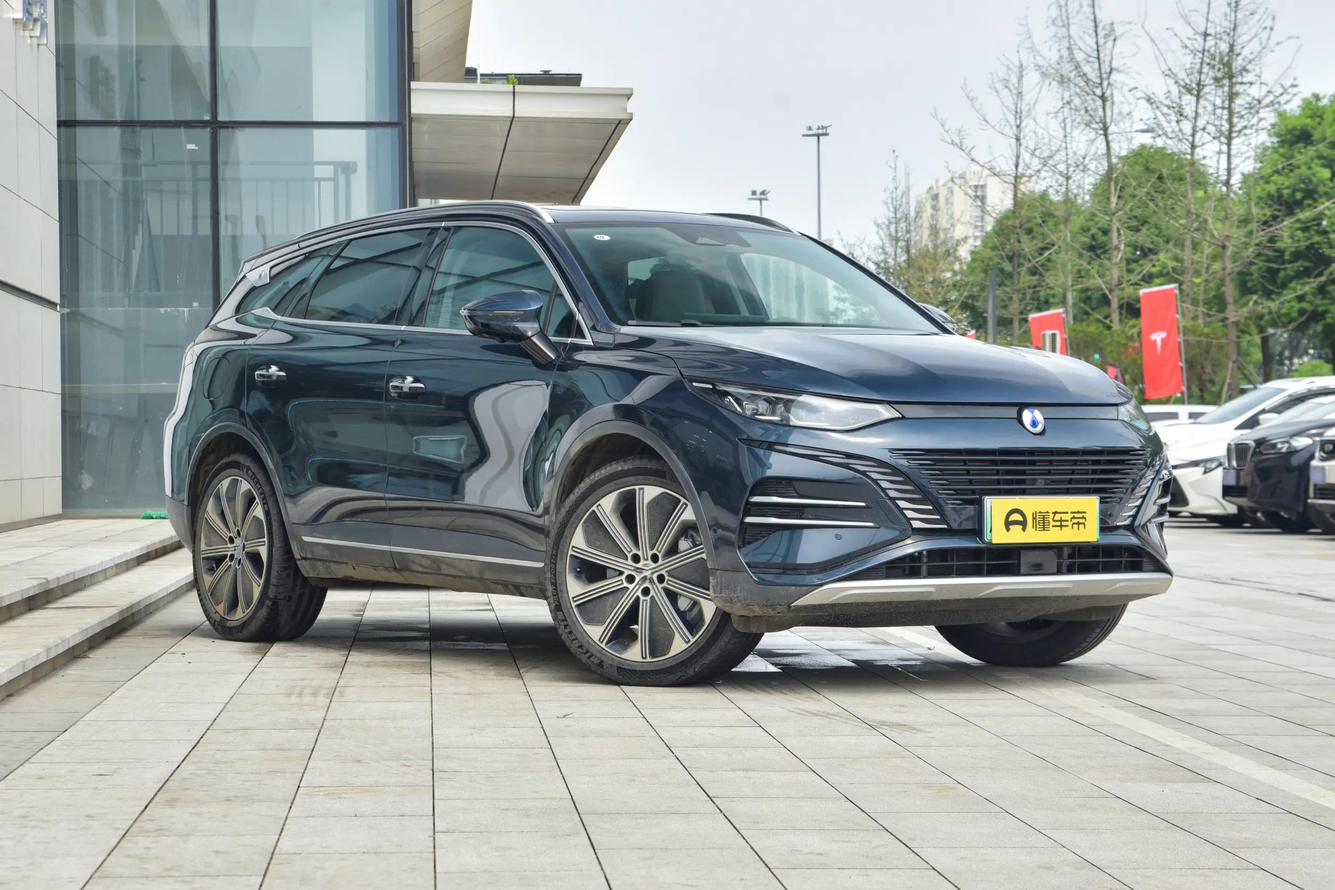DENZA: (1023, 408, 1044, 432)
